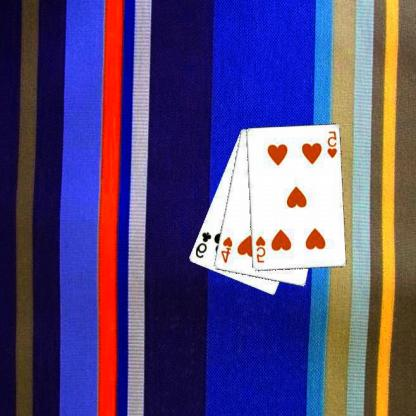4H: (219, 234, 236, 264)
5H: (326, 128, 340, 160), (255, 233, 268, 264)
6C: (194, 230, 214, 259)
